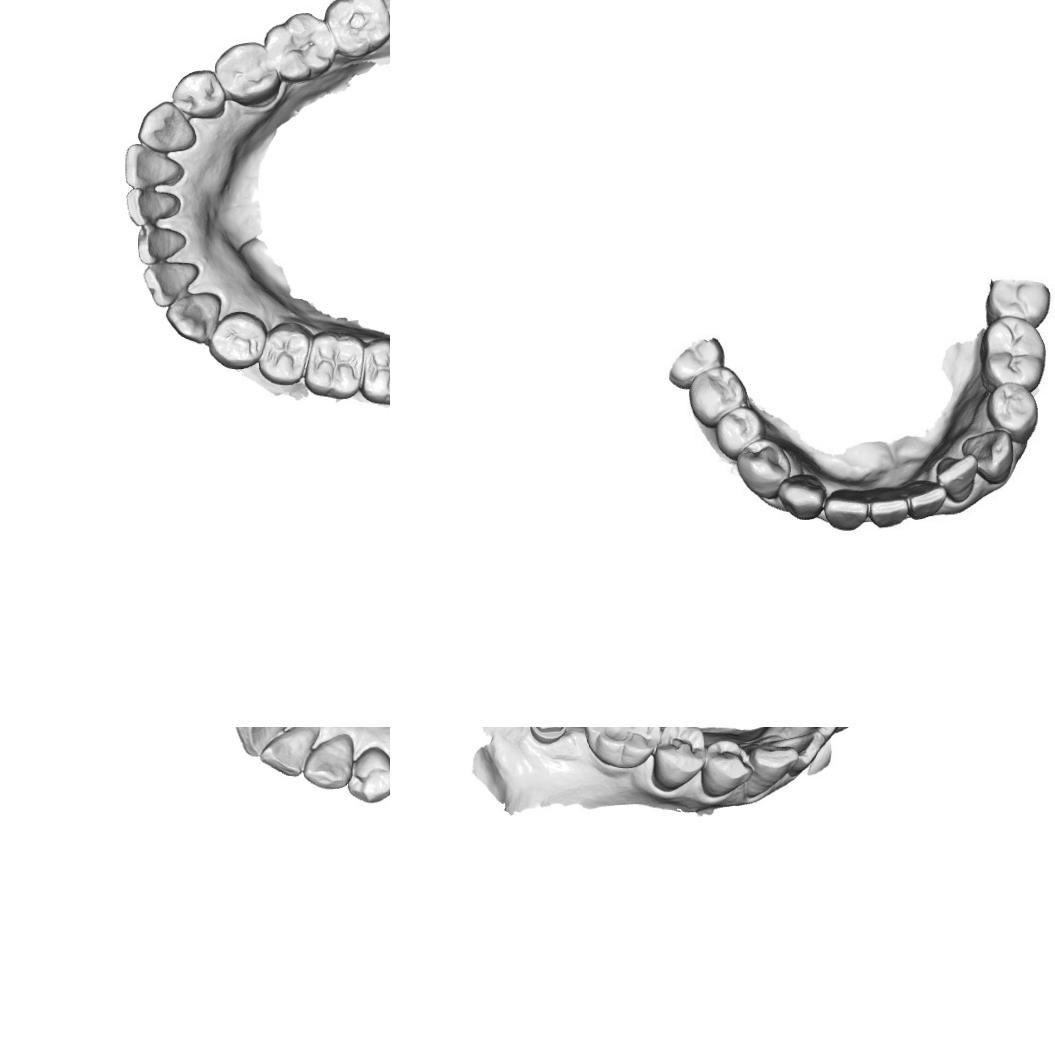canine: (300, 732, 356, 791), (136, 100, 197, 154), (161, 291, 223, 344), (742, 742, 800, 798), (772, 474, 827, 523), (964, 431, 1016, 474)
implant: (527, 727, 568, 745)
incisor: (120, 142, 185, 192), (258, 727, 318, 777), (142, 259, 200, 308), (123, 185, 182, 228), (771, 728, 826, 774), (133, 224, 187, 264), (826, 484, 872, 530), (235, 727, 296, 759), (910, 478, 953, 523), (940, 458, 980, 500), (871, 488, 911, 528), (780, 727, 846, 743)
molar: (262, 10, 334, 85), (685, 360, 752, 429), (984, 316, 1047, 386), (303, 330, 366, 398), (322, 0, 390, 56), (583, 727, 662, 772), (358, 336, 390, 406)
premolar: (211, 38, 281, 107), (649, 727, 708, 794), (254, 320, 312, 386), (207, 309, 266, 369), (699, 737, 756, 798), (344, 742, 390, 804), (170, 68, 225, 118), (740, 440, 788, 495), (714, 401, 764, 453), (991, 386, 1035, 432)
